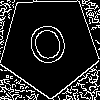O: (24, 20, 75, 77)
